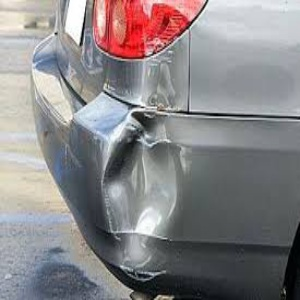bumper: (104, 114, 187, 285)
